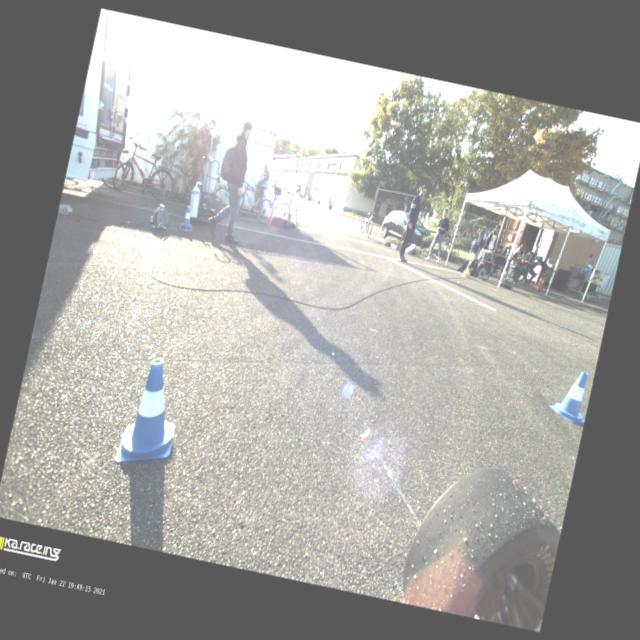blue_cone: (114, 354, 188, 473), (546, 365, 594, 427), (179, 205, 195, 228), (588, 262, 592, 272), (586, 261, 590, 270)
yellow_cone: (461, 260, 472, 276), (596, 272, 600, 282), (590, 274, 594, 283), (594, 274, 598, 282), (598, 276, 602, 284)
